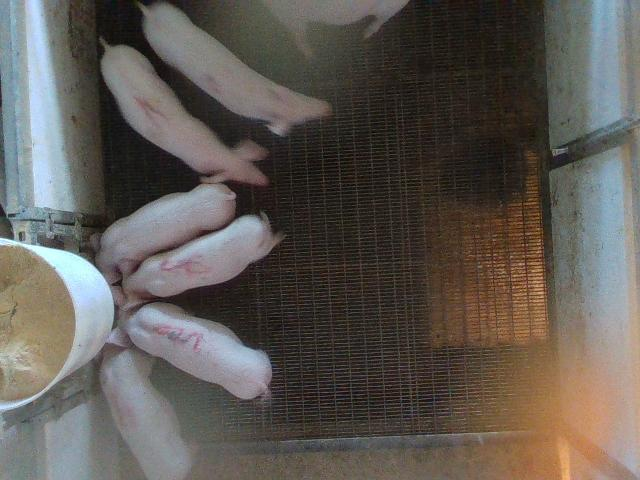pig-1: (100, 39, 266, 184)
pig-3: (108, 302, 271, 398)
pig-4: (100, 345, 192, 479)
pig-5: (122, 215, 284, 309)
